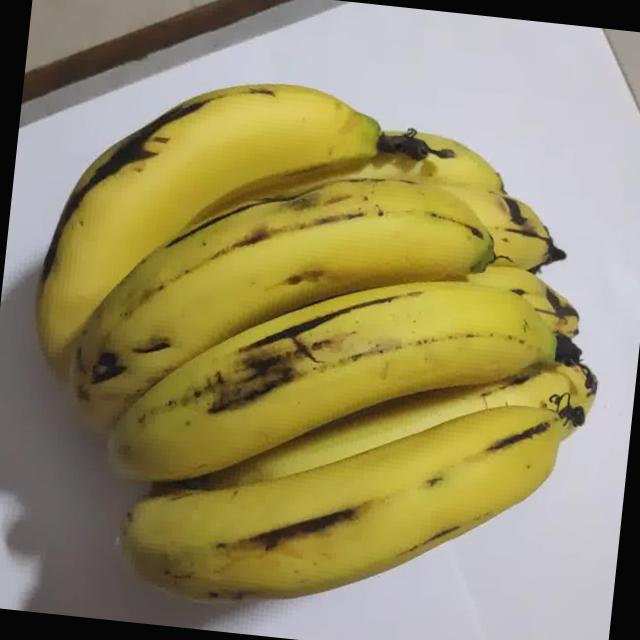banana_pacche: (0, 1, 614, 640)
